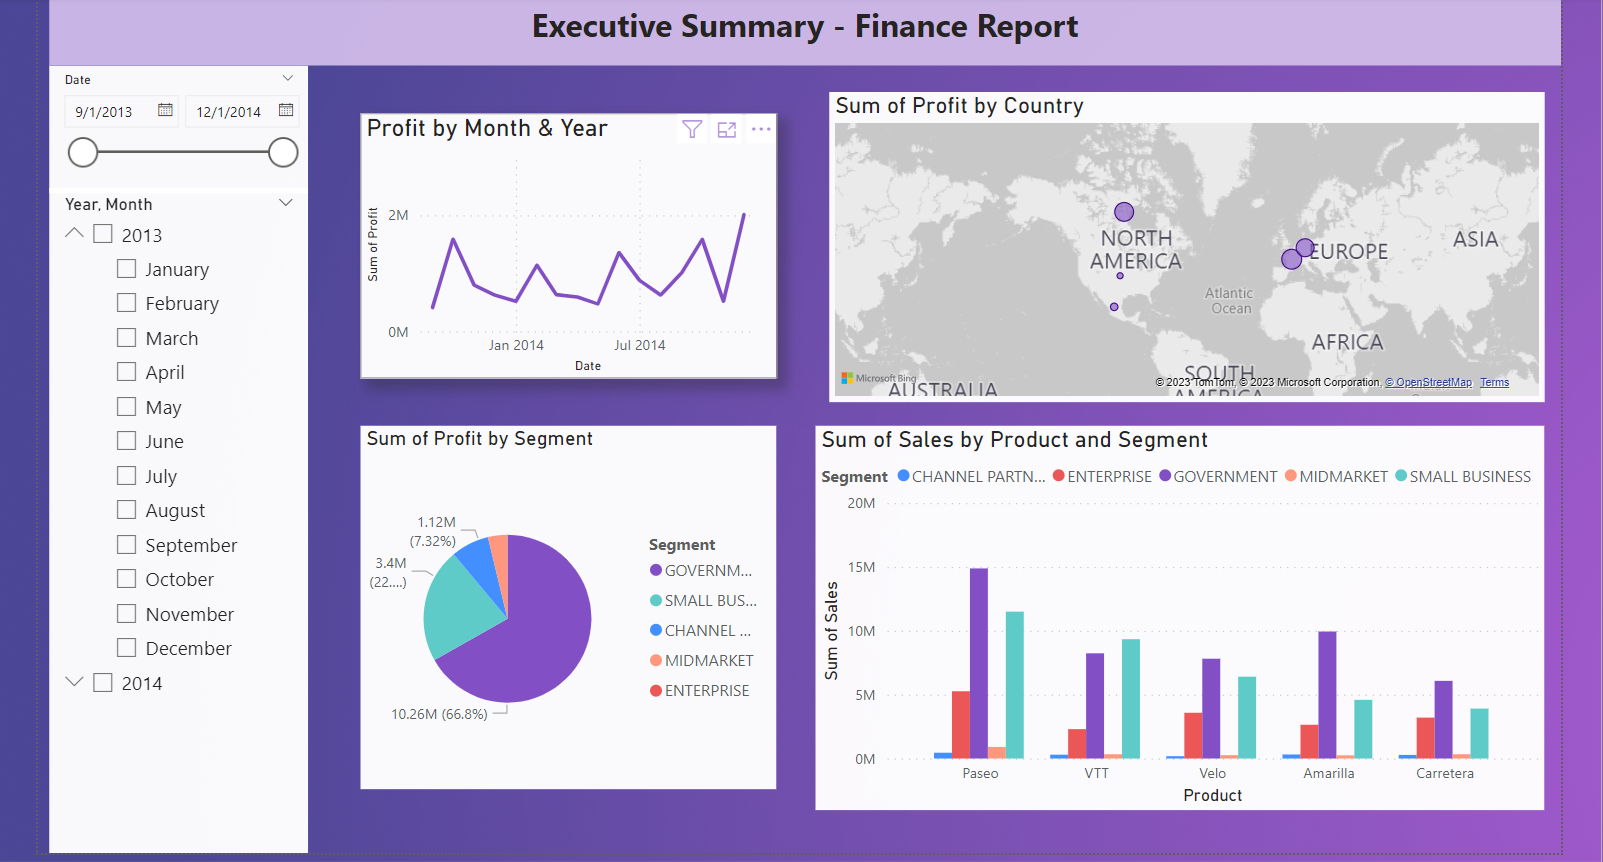

Layout of this report page (visuals, bound fields, positions):
{"tool":"powerbi","page":{"name":"Page 1","canvas":[1280,720],"ordinal":0},"visuals":[{"type":"textbox","box":[9.6,0,1271,57.6],"z":0},{"type":"lineChart","title":"Profit by Month & Year","fields":{"Category":["Calender.Date"],"Y":["Sum(financials.Profit)"]},"box":[271.5,97.3,349.6,223.5],"z":1000},{"type":"pieChart","fields":{"Category":["financials.Segment"],"Y":["Sum(financials.Profit)"]},"box":[271.5,360.6,349.6,305.7],"z":2000},{"type":"map","fields":{"Category":["financials.Country"],"Size":["Sum(financials.Profit)"]},"box":[665,79.5,601.9,260.5],"z":3000},{"type":"clusteredColumnChart","fields":{"Y":["Sum(financials. Sales)"],"Category":["financials.Product"],"Series":["financials.Segment"]},"box":[654,360.6,612.9,323.6],"z":4000},{"type":"slicer","fields":{"Values":["financials.Date"]},"box":[9.6,57.6,218,106.9],"z":5000},{"type":"slicer","fields":{"Values":["Calender.Date.Variation.Date Hierarchy.Year","Calender.Date.Variation.Date Hierarchy.Month"]},"box":[9.6,160.4,218,559.4],"z":6000}]}

Visuals, with their boxes in screenshot pixels (x1, y1, x2, y2):
textbox: (x1=49, y1=0, x2=1546, y2=64)
"Profit by Month & Year" lineChart: (x1=357, y1=110, x2=769, y2=374)
pieChart - financials.Segment x Sum(financials.Profit): (x1=357, y1=421, x2=769, y2=781)
map - financials.Country x Sum(financials.Profit): (x1=821, y1=89, x2=1530, y2=396)
clusteredColumnChart - Sum(financials. Sales) x financials.Product: (x1=808, y1=421, x2=1530, y2=802)
slicer - financials.Date: (x1=49, y1=64, x2=306, y2=190)
slicer - Calender.Date.Variation.Date Hierarchy.Year x Calender.Date.Variation.Date Hierarchy.Month: (x1=49, y1=185, x2=306, y2=844)
